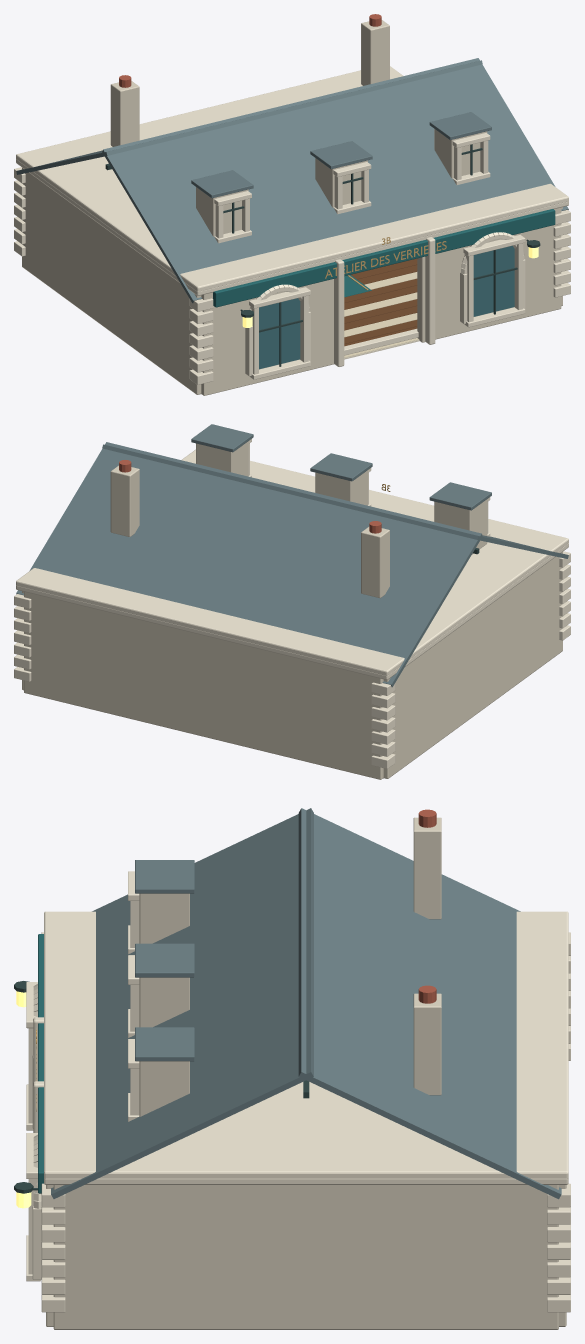
File: Atelier.glb
3 views of the same model, one above another, from view 1: azimuth 30°, elevation 25°; view 2: azimuth 150°, elevation 25°; view 3: azimuth 270°, elevation 25° (orthographic). The views are drawn at different scales.
Parts seen in each view (by area): view 1: Atelier_Zinc slate, Atelier_Carved ivory, Atelier_Paris limestone, Atelier_3B petrol, Atelier_Window blue, Atelier_Walnut, Atelier_Canvas ivory, Atelier_Forged midnight, Atelier_Brushed champagne; view 2: Atelier_Paris limestone, Atelier_Zinc slate, Atelier_Carved ivory; view 3: Atelier_Zinc slate, Atelier_Paris limestone, Atelier_Carved ivory, Atelier_3B petrol.
Part boxes in pixels (box(x1,y1,x2,y2)): Atelier_Zinc slate: box(16, 58, 568, 303); Atelier_Carved ivory: box(14, 66, 570, 394); Atelier_Paris limestone: box(22, 20, 562, 395); Atelier_3B petrol: box(213, 209, 555, 307); Atelier_Window blue: box(259, 245, 514, 369); Atelier_Walnut: box(344, 258, 417, 346); Atelier_Canvas ivory: box(344, 272, 418, 357); Atelier_Forged midnight: box(105, 144, 540, 366); Atelier_Brushed champagne: box(325, 237, 446, 290); Atelier_Paris limestone: box(22, 441, 562, 779); Atelier_Zinc slate: box(16, 424, 568, 687); Atelier_Carved ivory: box(14, 439, 570, 778); Atelier_Zinc slate: box(51, 808, 561, 1199); Atelier_Paris limestone: box(46, 817, 566, 1329); Atelier_Carved ivory: box(26, 871, 570, 1312); Atelier_3B petrol: box(38, 934, 43, 1193).
Bounding box in the file's own units: 21 × 11.15 × 18.73.
